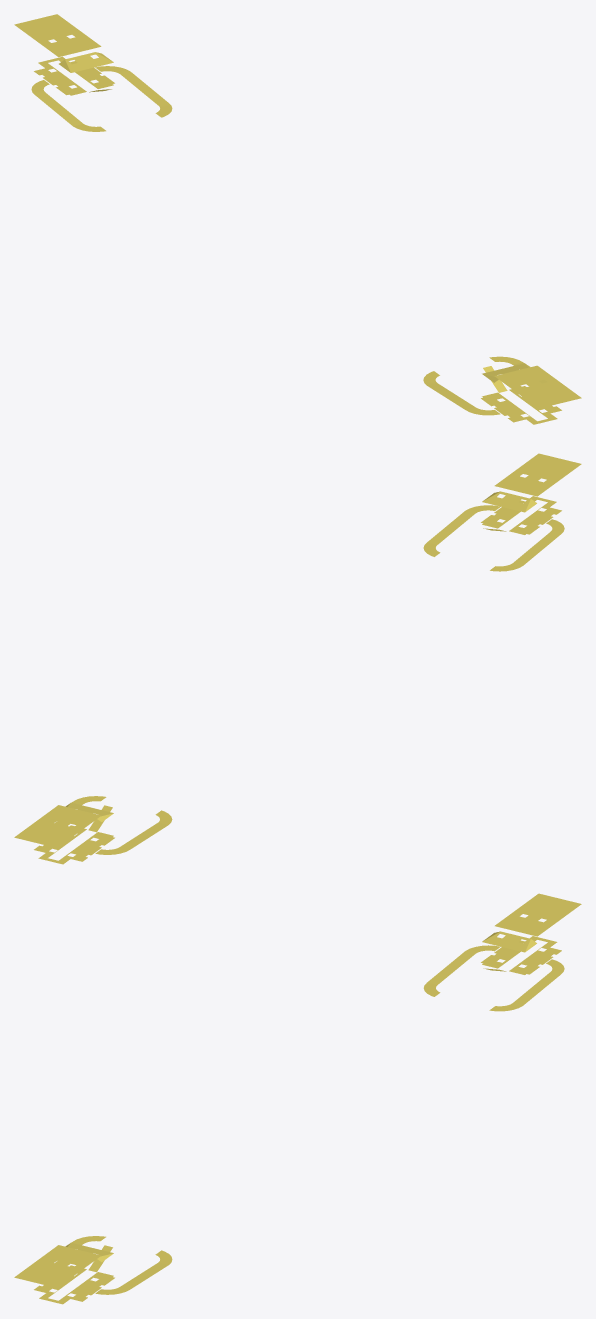
The model's file is cluster_17.fbx.
3 renders of one model, top to bottom at view 1: azimuth 30°, elevation 25°; view 2: azimuth 150°, elevation 25°; view 3: azimuth 330°, elevation 25°, orthographic.
Parts seen in each view (by area): view 1: cluster_17; view 2: cluster_17; view 3: cluster_17.
Part boxes in pixels (x1,y1,x2,y2): cluster_17: [14, 14, 581, 424]; cluster_17: [14, 453, 581, 864]; cluster_17: [14, 893, 581, 1304].
Bounding box in the file's own units: 170742 × 55956 × 1613939.
